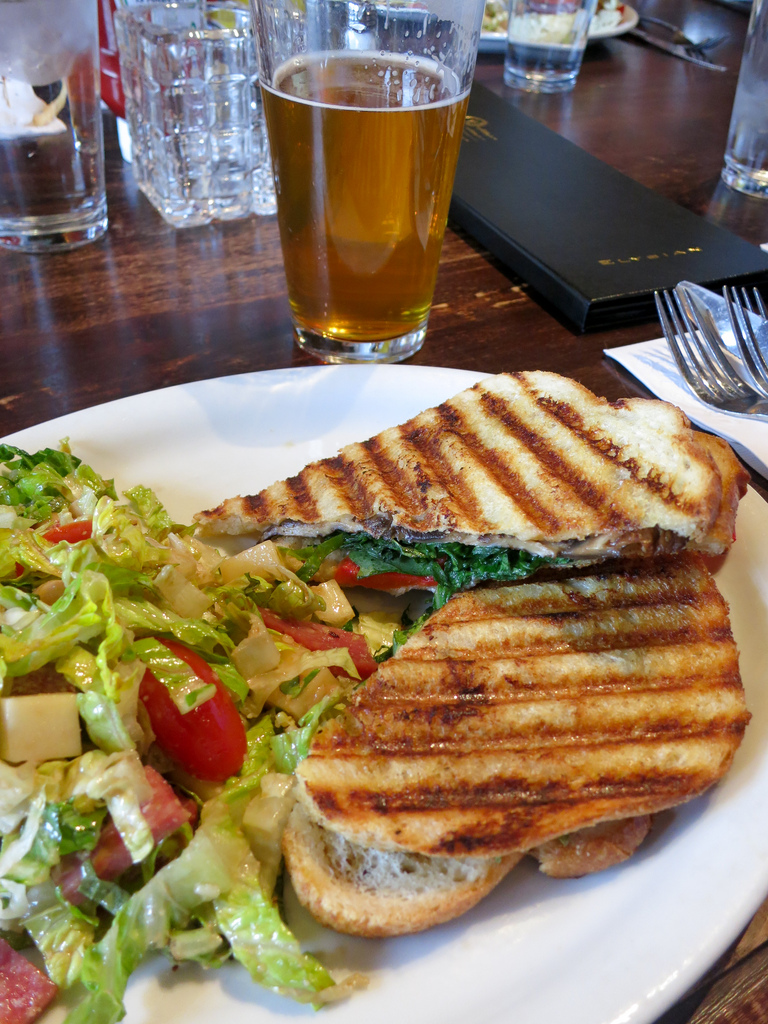chopped lettuce: (13, 471, 257, 972)
glass of water: (1, 1, 128, 254), (123, 1, 260, 234), (697, 1, 767, 182), (499, 1, 596, 105)
slice of bread: (169, 339, 736, 541), (336, 598, 742, 857)
